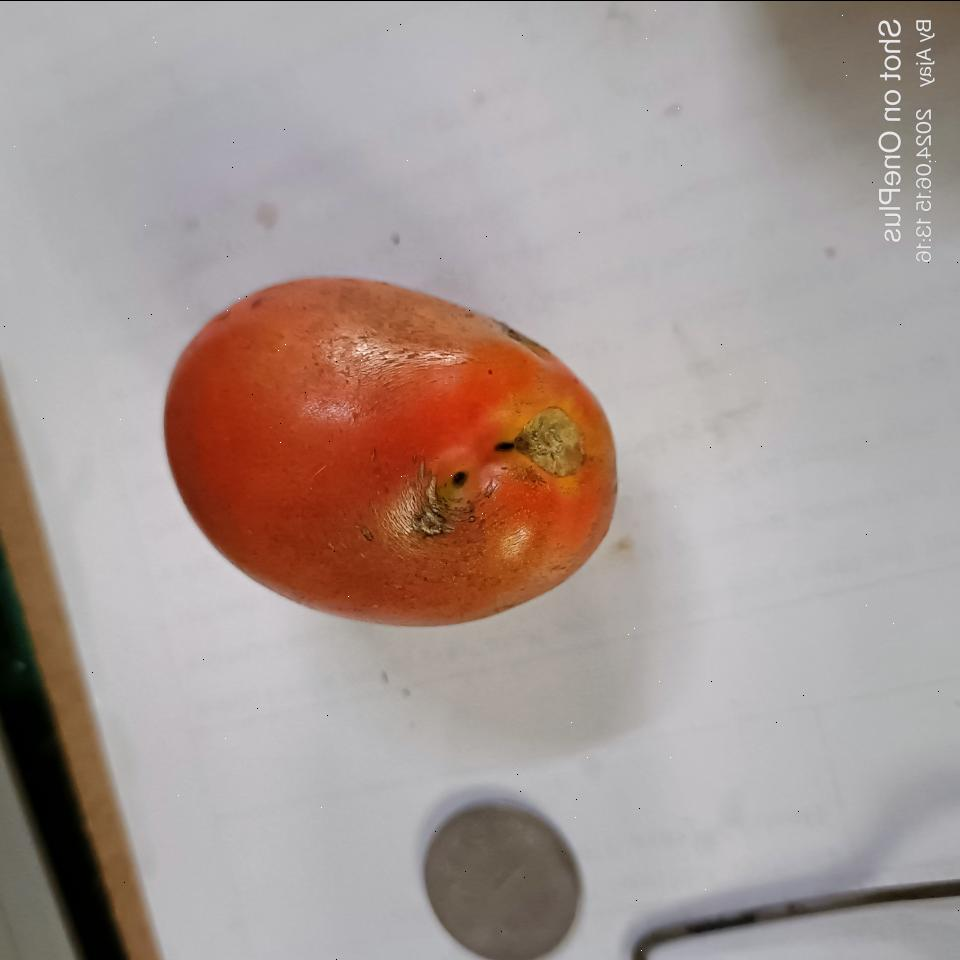Bacterial_Spot: (388, 432, 524, 540)
